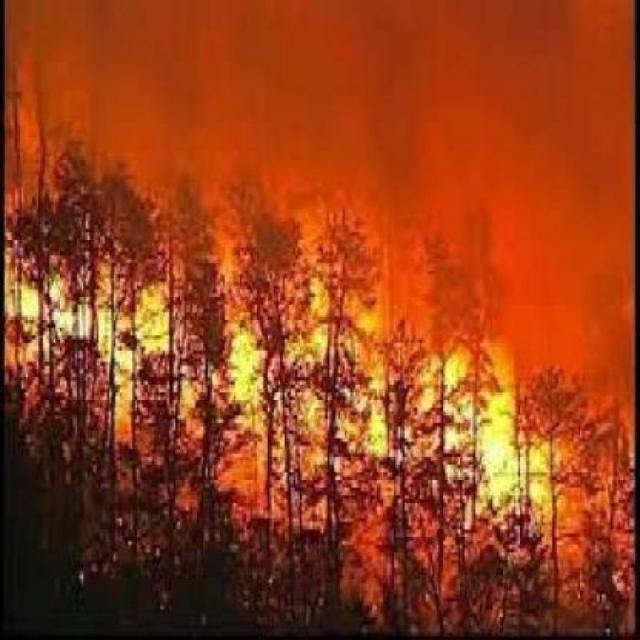Fire: (218, 302, 558, 508), (11, 270, 199, 462)
